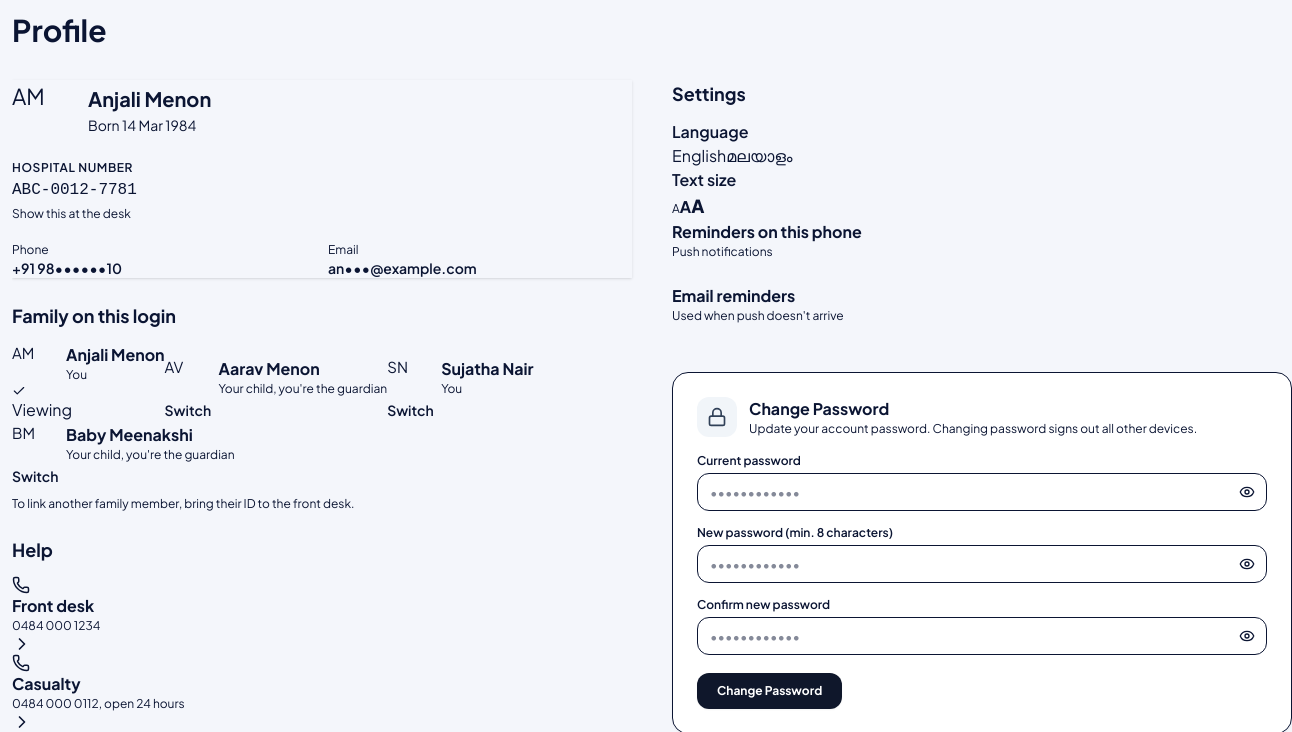
Test: Patient Profile Screen (Screen 5) › renders family members list and switches active profile to Aarav
The width and height of the screenshot is (1292, 732).
Expected: the text "Aarav Menon" is shown, [219,358,320,379]
Note: Switch to Aarav
Click the button "AV Aarav Menon Your child, you're the guardian Switch" at [276, 389], box [165,356,387,422]
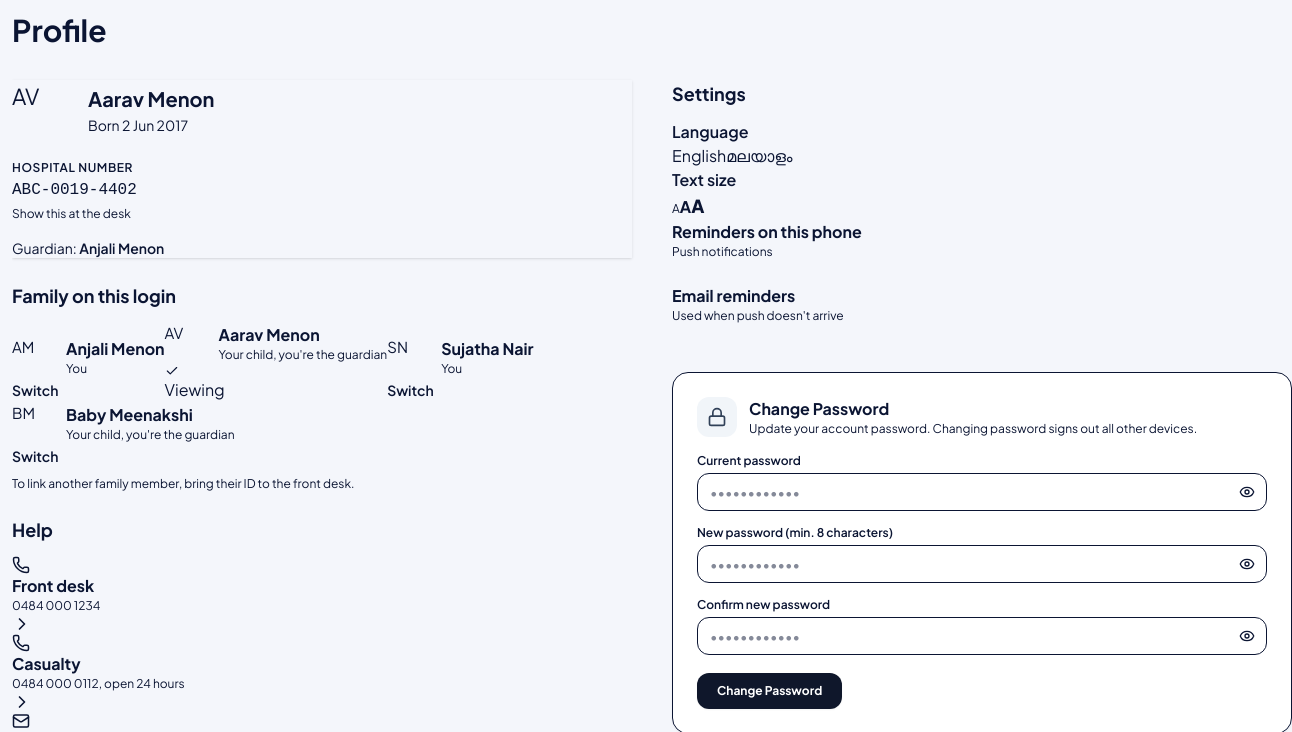
Expected: the text "Anjali Menon" below "Show this at the desk" is shown, [79,239,164,257]
Now the heading "Aarav Menon" is shown, box [88,85,214,113]
Now the text "ABC-0019-4402" is shown, box [12,181,137,199]
